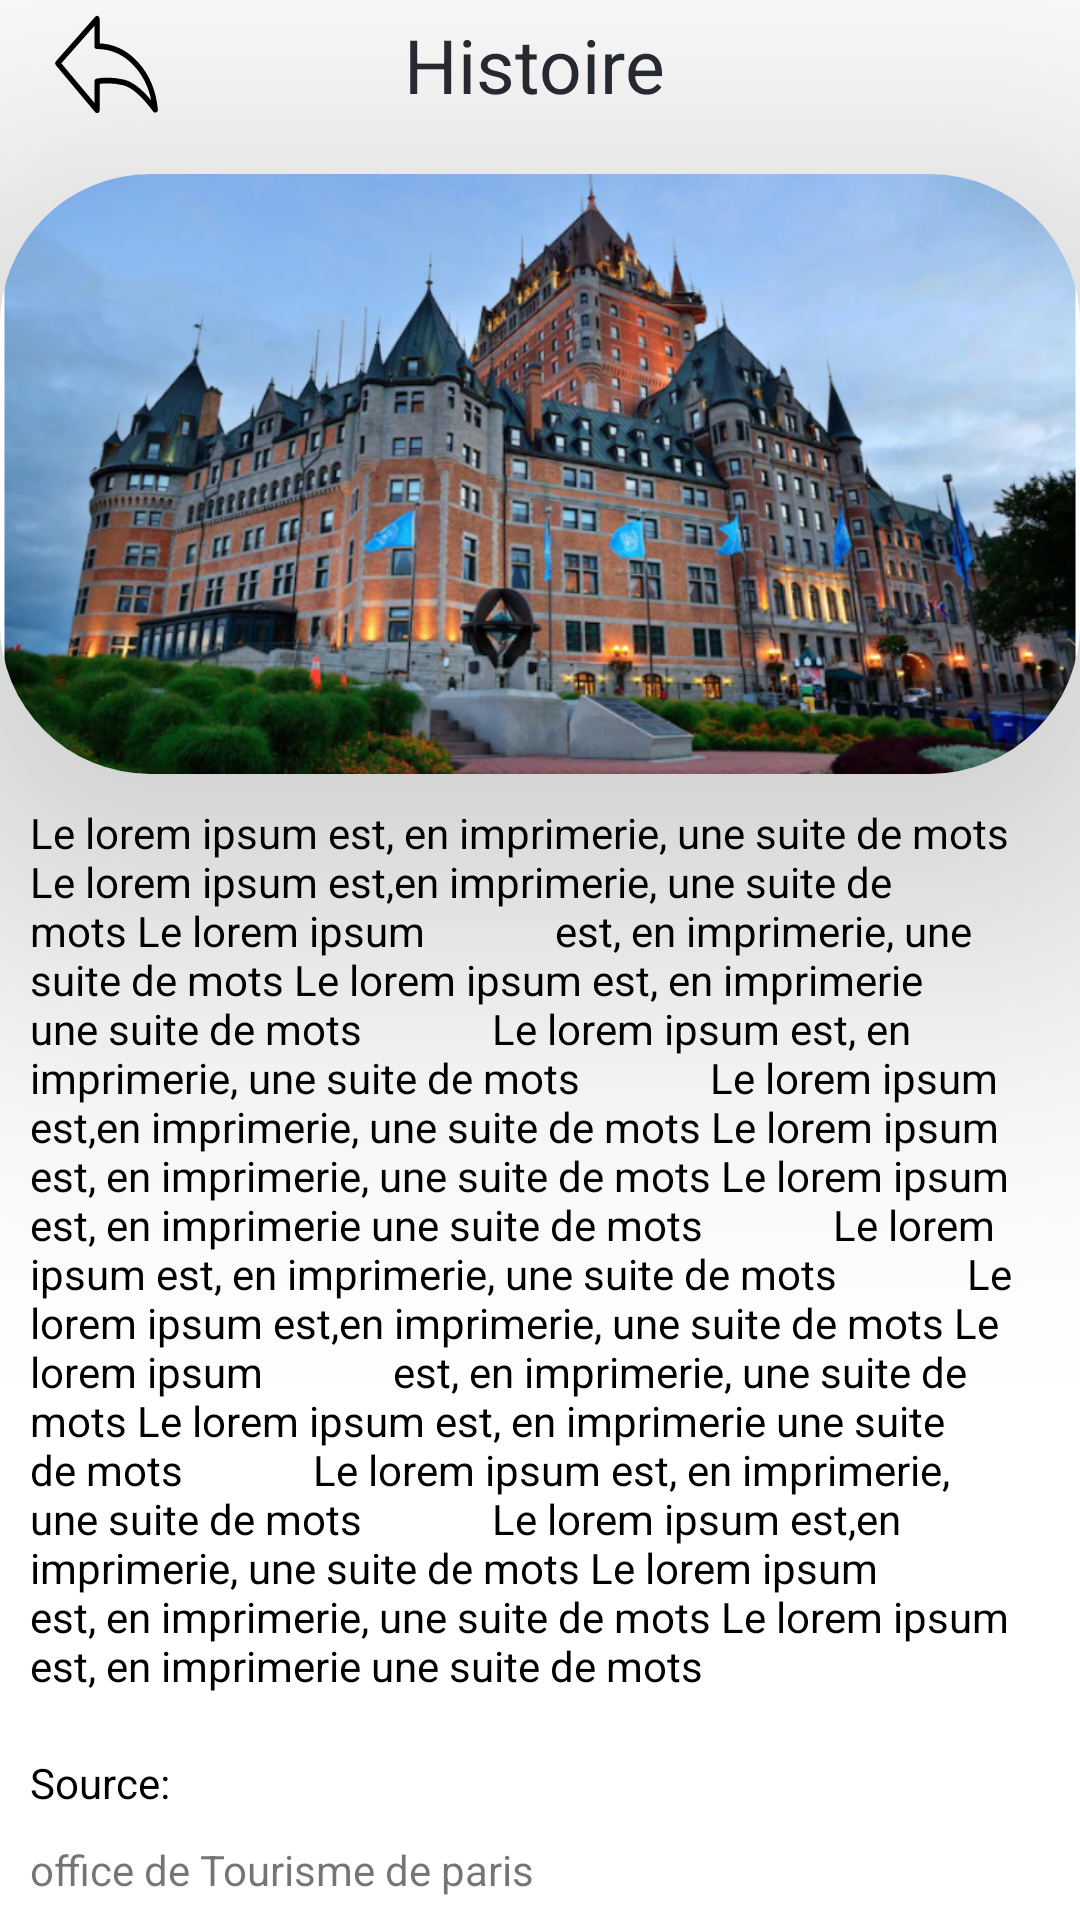

Icons on this 1080x1920 Android screen, each with its box as (x1,y1,x2,y2):
back: (55,15,158,113)
